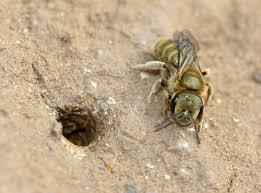Seladonia: (136, 14, 217, 141)
